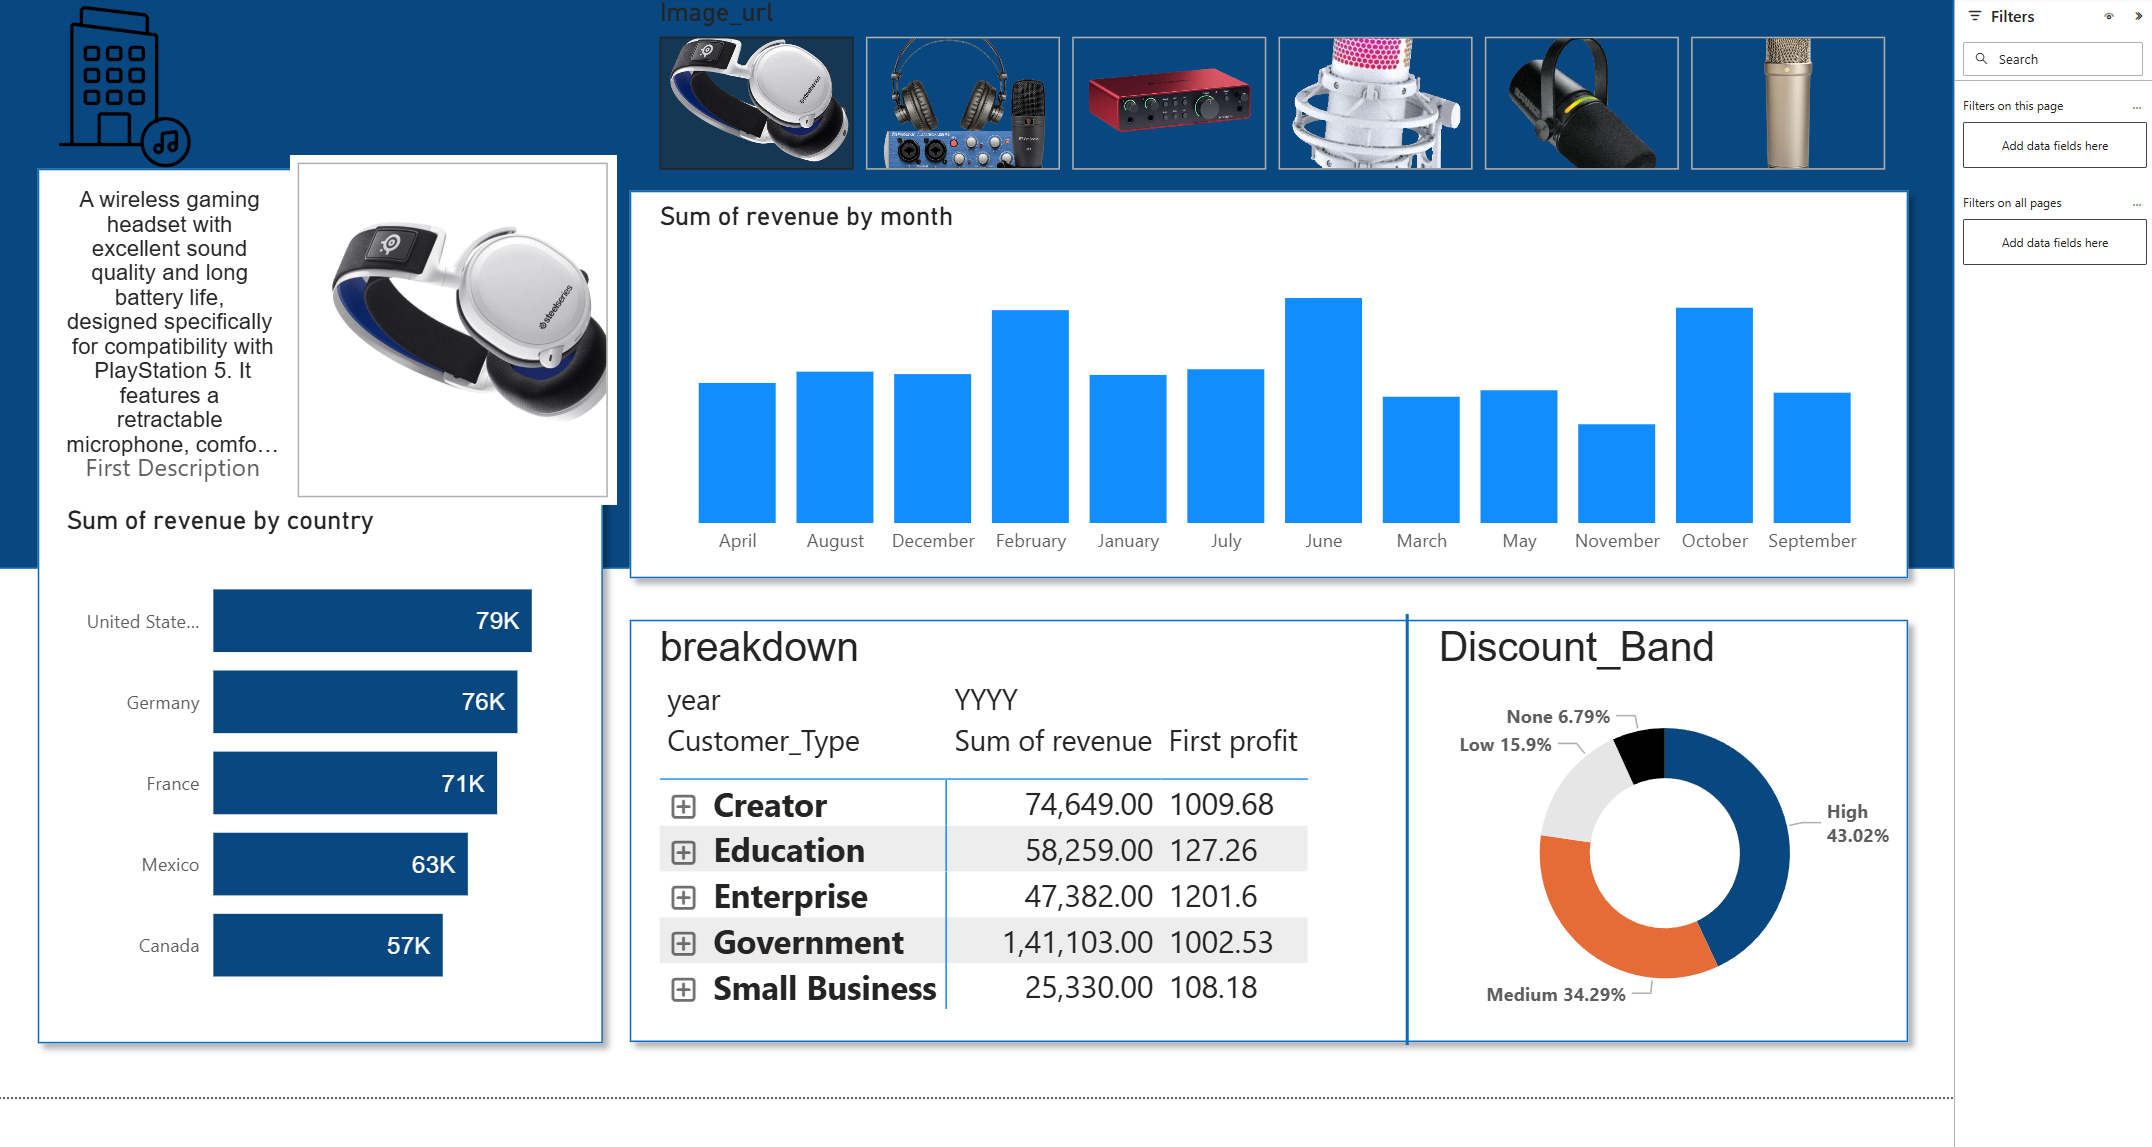

This screenshot's page, from the dashboard's own definition file:
{"tool":"powerbi","page":{"name":"Page 1","canvas":[1280,720],"ordinal":0},"visuals":[{"type":"shape","box":[0,0,1280,374.1],"z":0},{"type":"shape","box":[17.2,103.2,387.8,590.3],"z":1000},{"type":"shape","box":[404.5,398.8,854.6,294.4],"z":2000},{"type":"shape","box":[404.5,117.7,854.6,271.6],"z":3000},{"type":"image","box":[17.1,0,132.9,117.7],"z":4000},{"type":"advancedSlicerVisual","fields":{"Values":["Query1.Image_url"]},"box":[427.9,0,815.8,118.4],"z":5000},{"type":"cardVisual","fields":{"Data":["Min(Query1.Image_url)"]},"box":[184.5,110.6,214,229],"z":6000},{"type":"card","fields":{"Values":["Min(Query1.Description)"]},"box":[38.2,103.2,152.8,229.3],"z":7000},{"type":"clusteredBarChart","fields":{"Category":["Query1.country"],"Y":["Sum(Query1.revenue)"]},"box":[40.1,332.4,351.5,336.2],"z":8000},{"type":"columnChart","fields":{"Category":["Query1.month","Query1.date.Variation.Date Hierarchy.Year","Query1.date.Variation.Date Hierarchy.Quarter","Query1.date.Variation.Date Hierarchy.Month","Query1.date.Variation.Date Hierarchy.Day"],"Y":["Sum(Query1.revenue)"]},"box":[427.9,133.7,815.8,240.7],"z":9000},{"type":"donutChart","title":" Discount_Band","fields":{"Category":["Query1.Discount_Band"],"Y":["Sum(Query1.revenue)"]},"box":[938,410,306,270],"z":10000},{"type":"pivotTable","title":"breakdown","fields":{"Rows":["Query1.Customer_Type","Query1.Product"],"Columns":["Query1.year"],"Values":["Sum(Query1.revenue)","Min(Query1.profit)"]},"box":[428,410,494,270],"z":11000},{"type":"shape","box":[772,404,300,282],"z":12000}]}

Visuals, with their boxes on the page's 1280x720 design canvas (x1, y1, x2, y2). These are canvas units, not pixel positions in the 2152x1147 screenshot, which may show the page scaled, cropped or inside an application window:
shape: 0, 0, 1280, 374
shape: 17, 103, 405, 694
shape: 404, 399, 1259, 693
shape: 404, 118, 1259, 389
image: 17, 0, 150, 118
advancedSlicerVisual - Query1.Image_url: 428, 0, 1244, 118
cardVisual - Min(Query1.Image_url): 184, 111, 398, 340
card - Min(Query1.Description): 38, 103, 191, 332
clusteredBarChart - Query1.country x Sum(Query1.revenue): 40, 332, 392, 669
columnChart - Query1.month x Query1.date.Variation.Date Hierarchy.Year: 428, 134, 1244, 374
" Discount_Band" donutChart: 938, 410, 1244, 680
"breakdown" pivotTable: 428, 410, 922, 680
shape: 772, 404, 1072, 686
